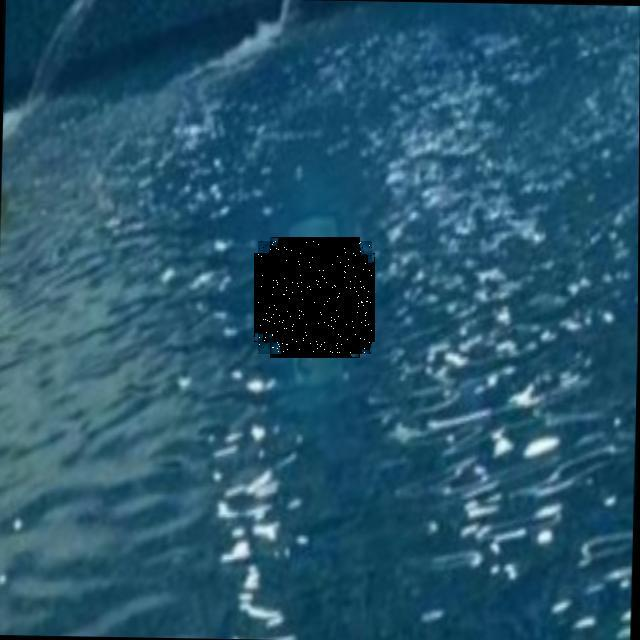swimming: (258, 241, 372, 354)
